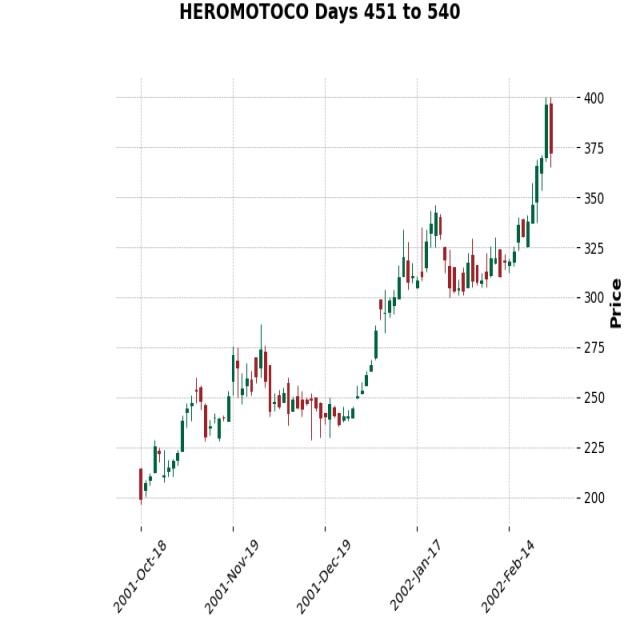Triple Bottom Reversal: (141, 339, 392, 491)
